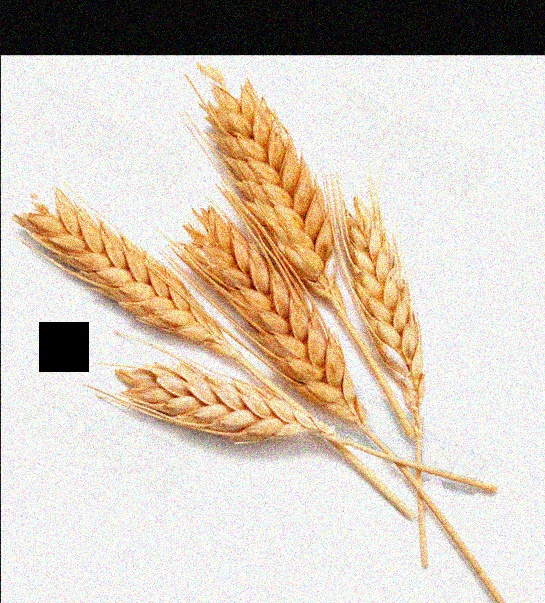wheat: (6, 180, 253, 382), (180, 202, 379, 436), (198, 71, 345, 305), (103, 356, 369, 444), (341, 208, 432, 444)
